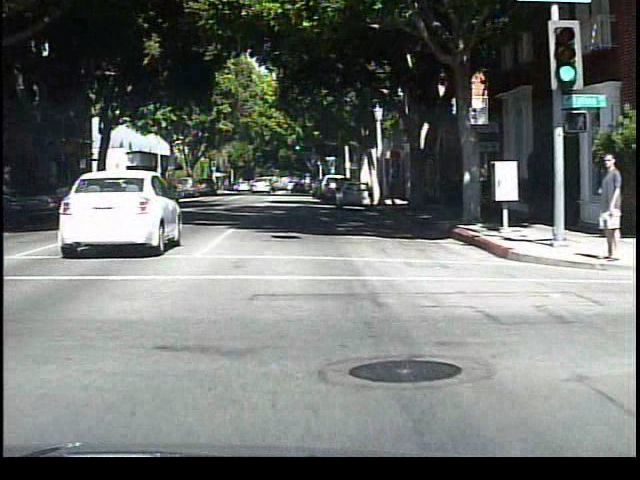person: (589, 148, 621, 266)
